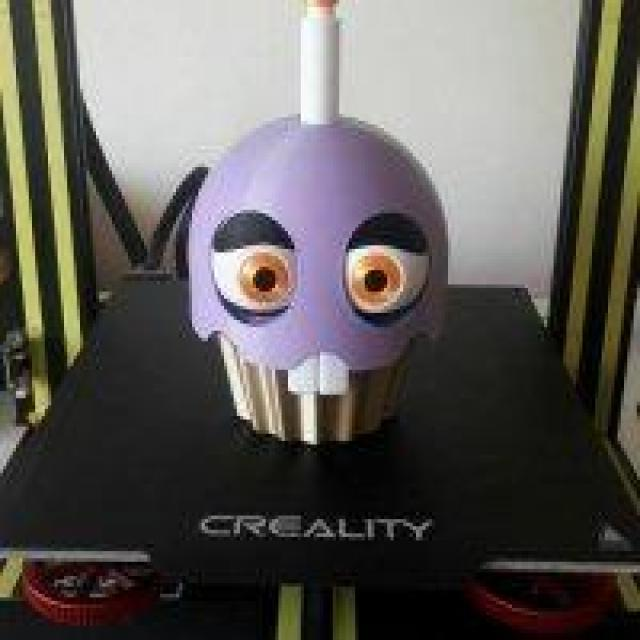Without deffect: (185, 0, 451, 469)
